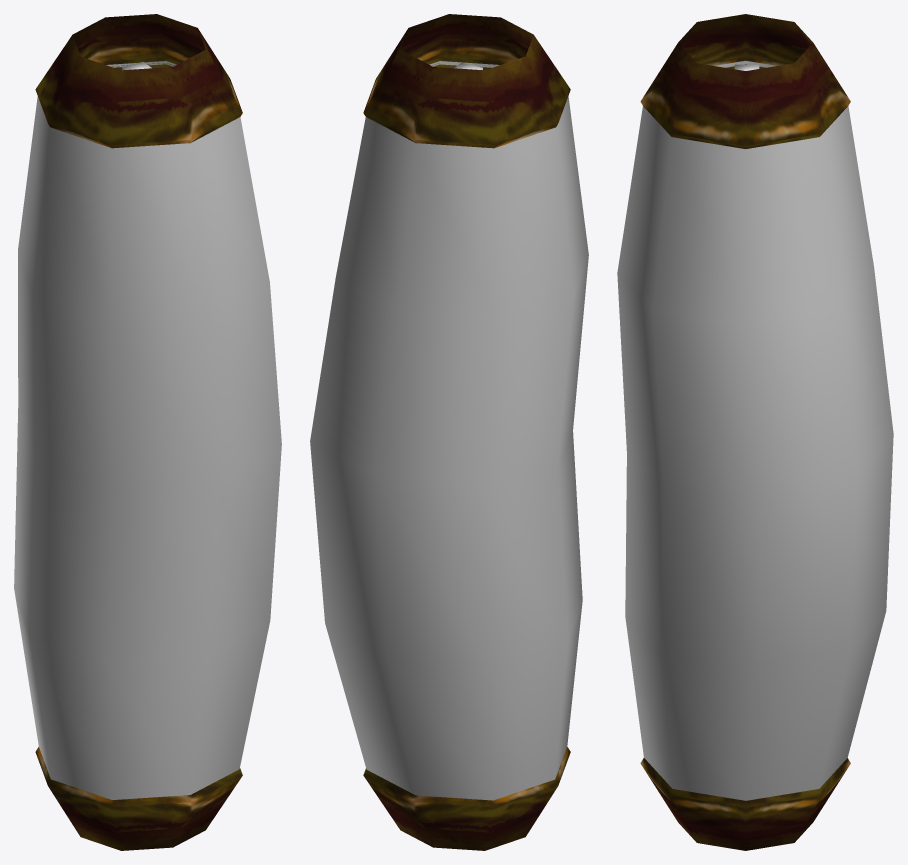
File: Bug_Arm_01_a.fbx
3 views of the same model, side by side, from view 1: azimuth 30°, elevation 25°; view 2: azimuth 150°, elevation 25°; view 3: azimuth 270°, elevation 25° (orthographic).
Parts seen in each view (by area): view 1: Bug_Arm_01_a; view 2: Bug_Arm_01_a; view 3: Bug_Arm_01_a.
Part boxes in pixels (box(x1,y1,x2,y2)): Bug_Arm_01_a: box(14, 14, 281, 850); Bug_Arm_01_a: box(310, 14, 588, 850); Bug_Arm_01_a: box(617, 14, 893, 850).
Bounding box in the file's own units: 1.2 × 3.72 × 1.2.
